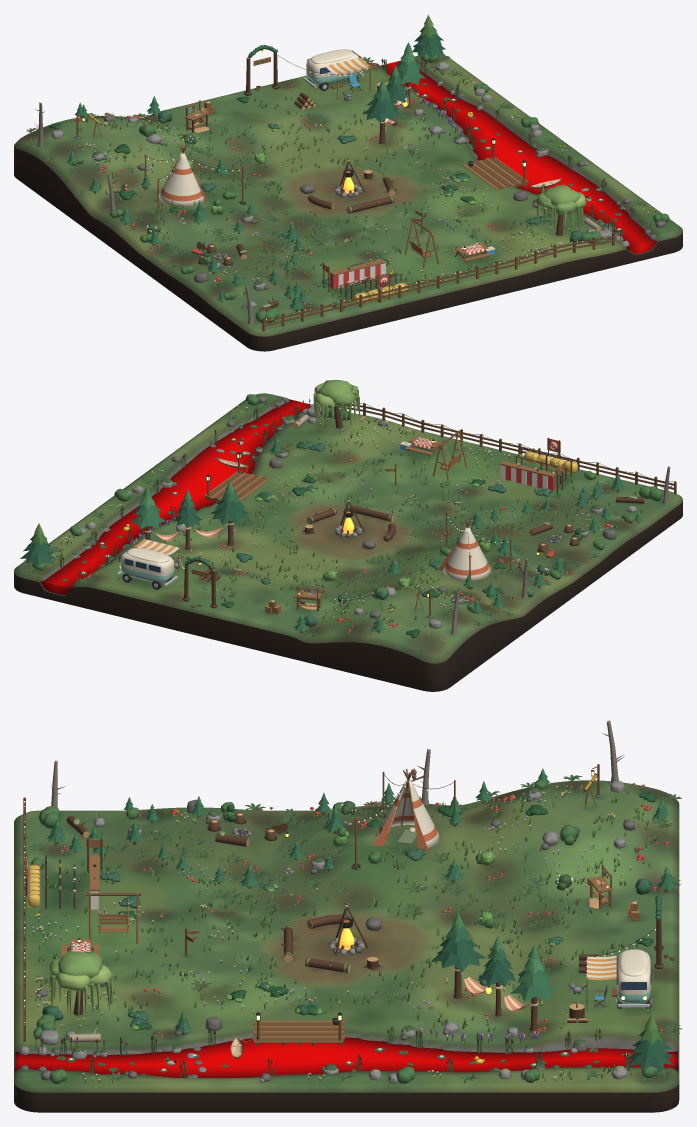
The model's file is campfire.glb.
The picture shows the model from 3 angles, top to bottom: view 1: azimuth 30°, elevation 25°; view 2: azimuth 150°, elevation 25°; view 3: azimuth 270°, elevation 25°; orthographic projection. The views are drawn at different scales.
Visible parts, largest first — view 1: Campfire_Ground, Campfire_Static, Campfire_Pines, Campfire_Water; view 2: Campfire_Ground, Campfire_Static, Campfire_Pines, Campfire_Water; view 3: Campfire_Ground, Campfire_Static, Campfire_Water, Campfire_Pines, Prop_Swing.
Boxes of the visible parts, x1,y1,x2,y2 form: Campfire_Ground: (14, 54, 682, 351); Campfire_Static: (26, 45, 669, 331); Campfire_Pines: (34, 15, 586, 324); Campfire_Water: (380, 60, 656, 254); Campfire_Ground: (14, 393, 682, 691); Campfire_Static: (22, 394, 676, 654); Campfire_Pines: (20, 380, 672, 635); Campfire_Water: (40, 399, 310, 594); Campfire_Ground: (14, 780, 679, 1112); Campfire_Static: (19, 764, 682, 1083); Campfire_Water: (15, 1037, 677, 1077); Campfire_Pines: (46, 720, 677, 1071); Prop_Swing: (98, 896, 128, 933).
Size of the model in its own units: 28.25 by 7.35 by 28.16.
